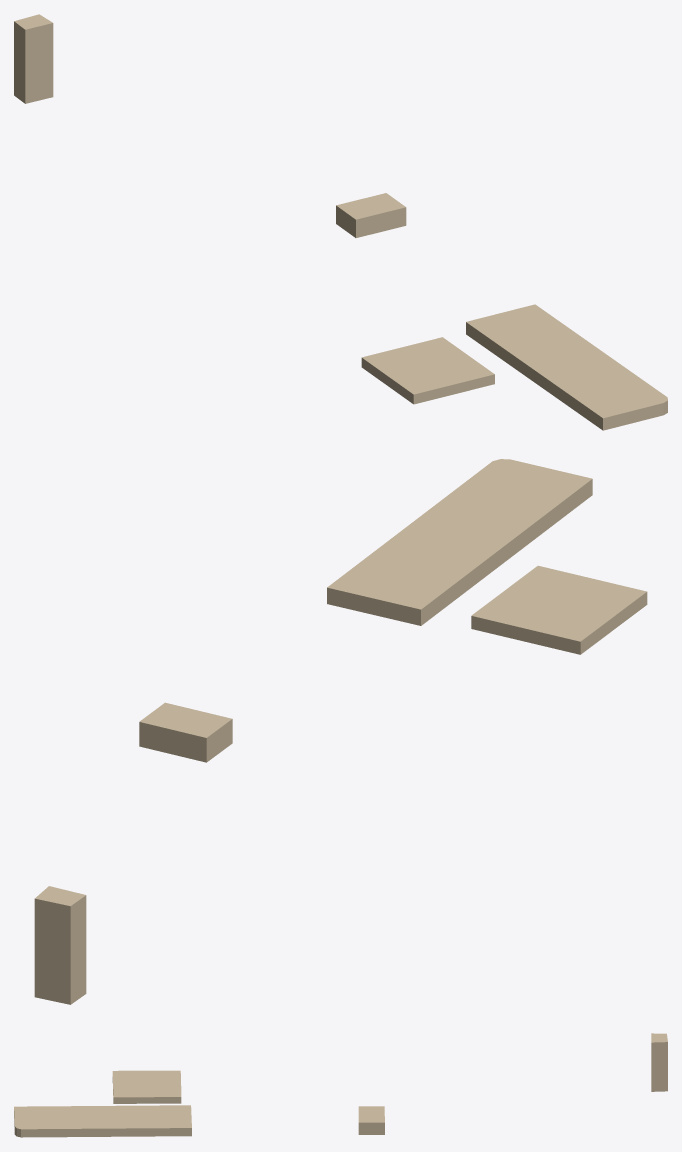
File: -11_5-estimated-coarse.glb
3 views of the same model, one above another, from view 1: azimuth 30°, elevation 25°; view 2: azimuth 150°, elevation 25°; view 3: azimuth 270°, elevation 25° (orthographic). The views are drawn at different scales.
Bounding box in the file's own units: 236 × 90 × 1081.
